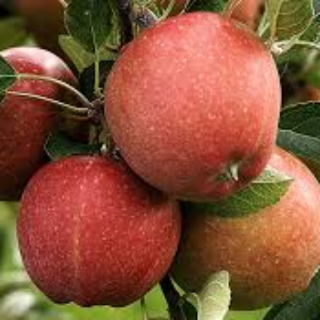tao: (104, 7, 286, 197), (14, 150, 186, 311)
